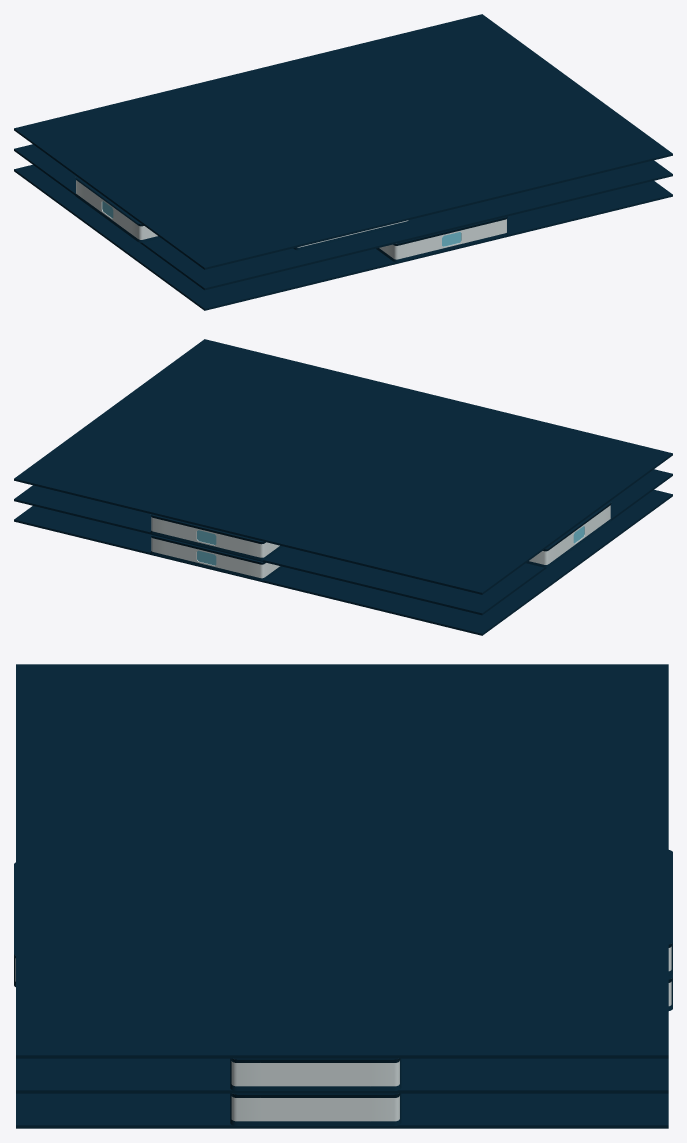
File: floors (1).fbx
The picture shows the model from 3 angles, top to bottom: view 1: azimuth 30°, elevation 25°; view 2: azimuth 150°, elevation 25°; view 3: azimuth 270°, elevation 25°; orthographic projection. The views are drawn at different scales.
Parts seen in each view (by area): view 1: Plane.025, Plane.003, Plane.067, Plane.073, Plane.002; view 2: Plane.025, Plane.067, Plane.003, Plane.002, Plane.073; view 3: Plane.025, Plane.003, Plane.067, Plane.002, Plane.073.
Boxes of the visible parts, x1,y1,x2,y2 form: Plane.025: (14, 14, 672, 269); Plane.003: (14, 144, 672, 290); Plane.067: (14, 164, 672, 310); Plane.073: (376, 216, 507, 262); Plane.002: (75, 176, 409, 250); Plane.025: (14, 339, 672, 594); Plane.067: (14, 489, 672, 635); Plane.003: (14, 469, 672, 615); Plane.002: (150, 501, 611, 567); Plane.073: (150, 534, 282, 580); Plane.025: (16, 664, 668, 1058); Plane.003: (16, 1058, 668, 1093); Plane.067: (16, 1093, 668, 1128); Plane.002: (230, 850, 672, 1090); Plane.073: (14, 862, 672, 1125).
Size of the model in its own units: 3705 by 322 by 2619.
